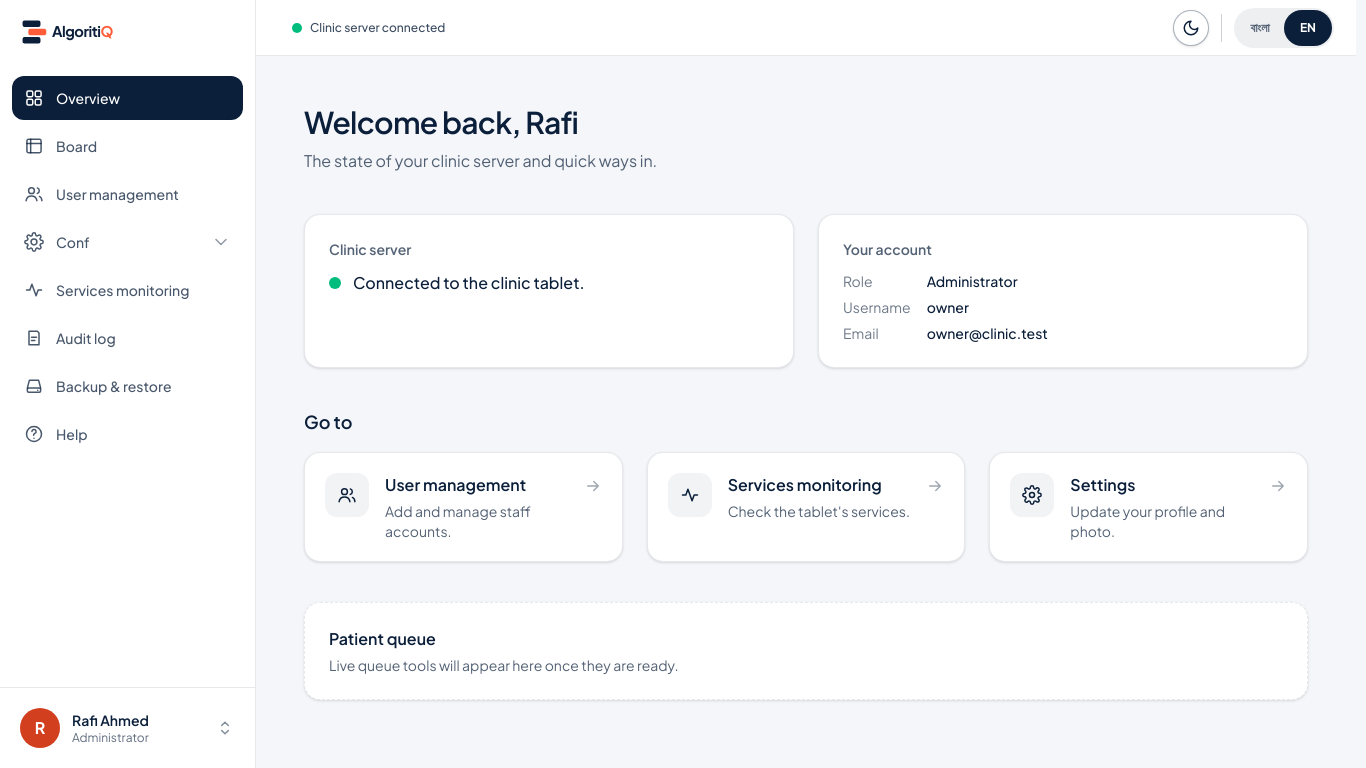
Test: dashboard shell › the user at the bottom of the sidebar › should switch the language from the top bar
Expected: the heading "Welcome back, Rafi" is shown, [304,103,578,141]
Click the button "বাংলা" at (1260, 28), box [1236,10,1284,46]
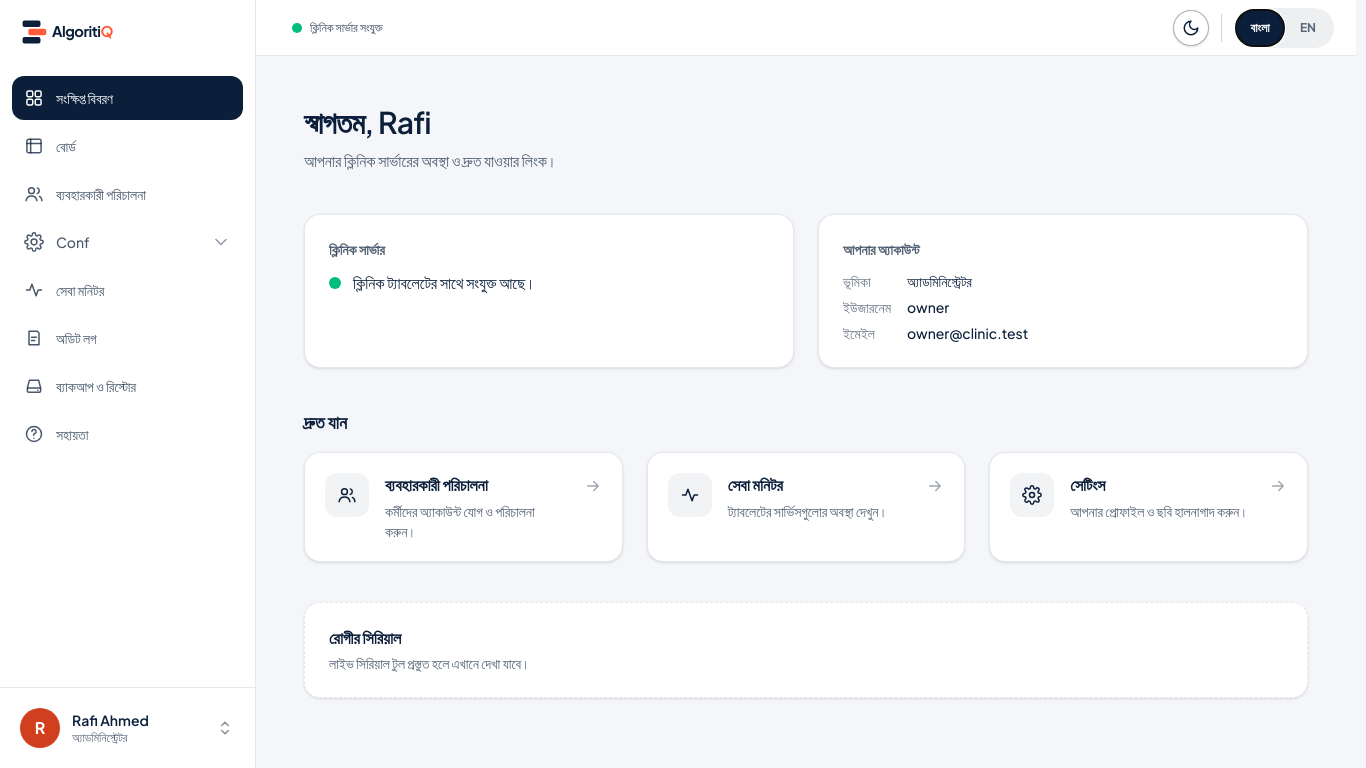
Expected: the heading "স্বাগতম, Rafi" is shown, [304,103,431,141]
